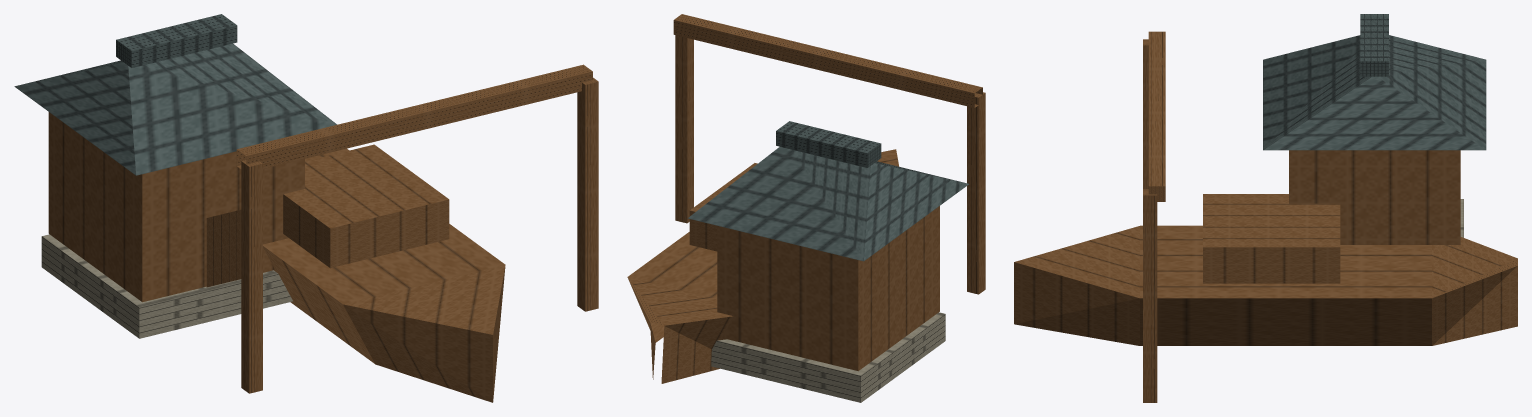
File: domestic-SHIPYARD-1-lod2.glb
3 views of the same model, side by side, from view 1: azimuth 30°, elevation 25°; view 2: azimuth 150°, elevation 25°; view 3: azimuth 270°, elevation 25° (orthographic). The views are drawn at different scales.
Bounding box in the file's own units: 0.7325 × 0.45 × 0.88.
Materials: 1 (1 with a texture image).
